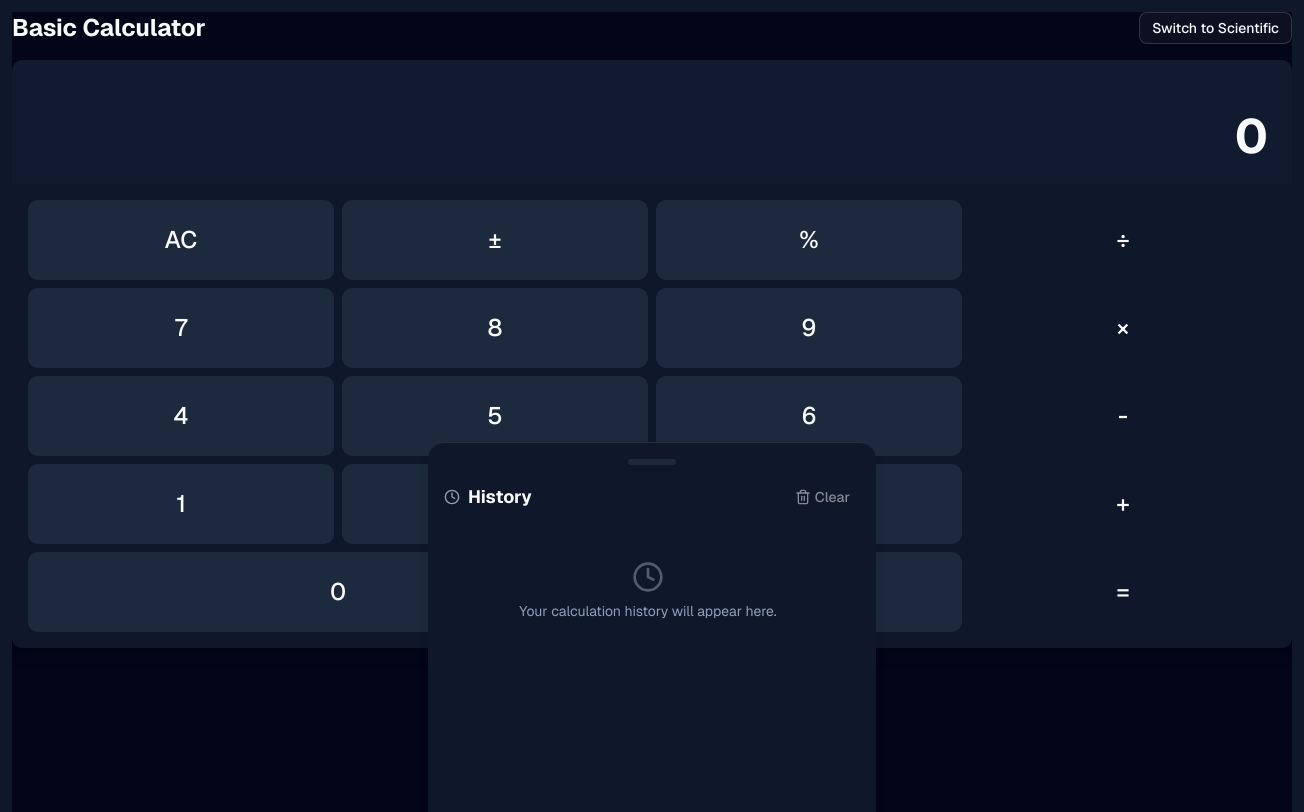
it: Calculator - Complete Test Suite › Mode Switching › switches to scientific mode when button is clicked
Step 1. Click the button with test id "mode-toggle-button" → (1216, 28), box [1139,12,1292,44]
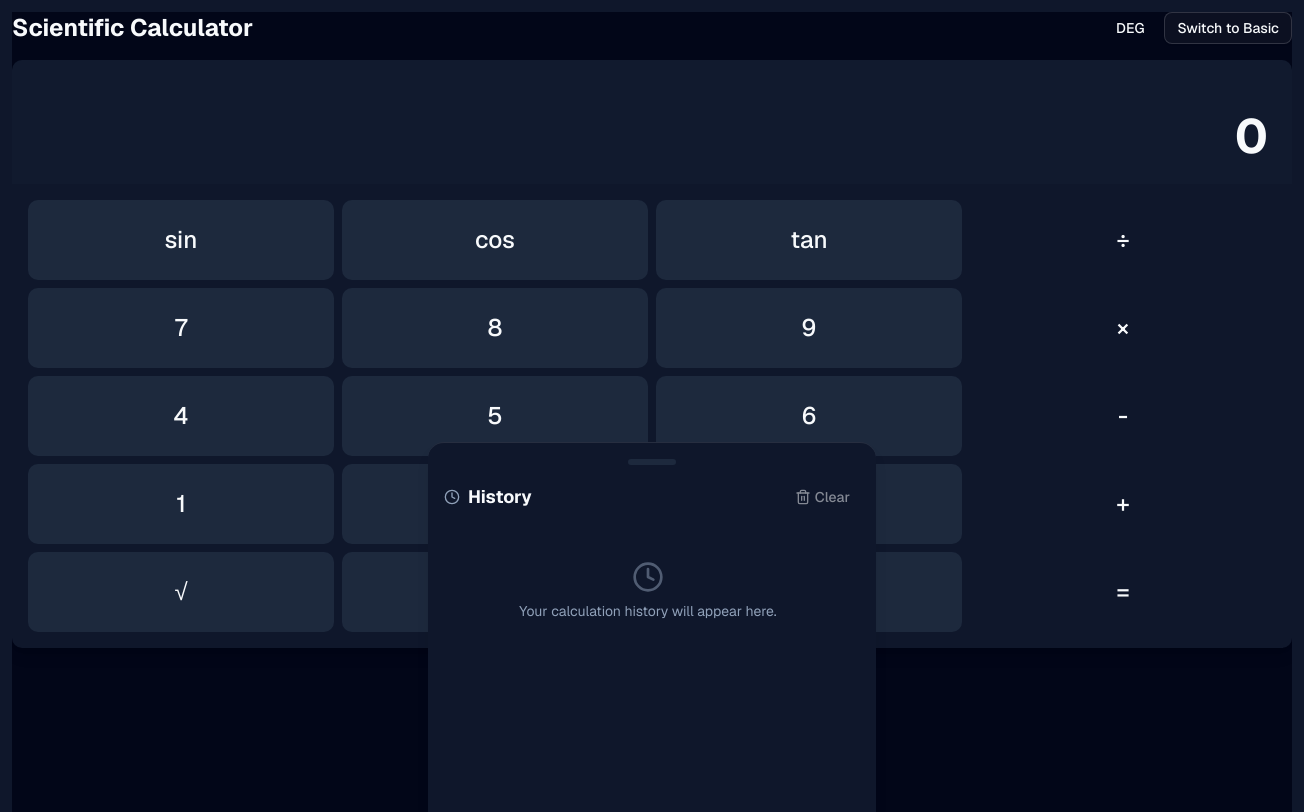
expect the button with test id "mode-toggle-button" shows "Basic": met, box [1164,12,1292,44]
